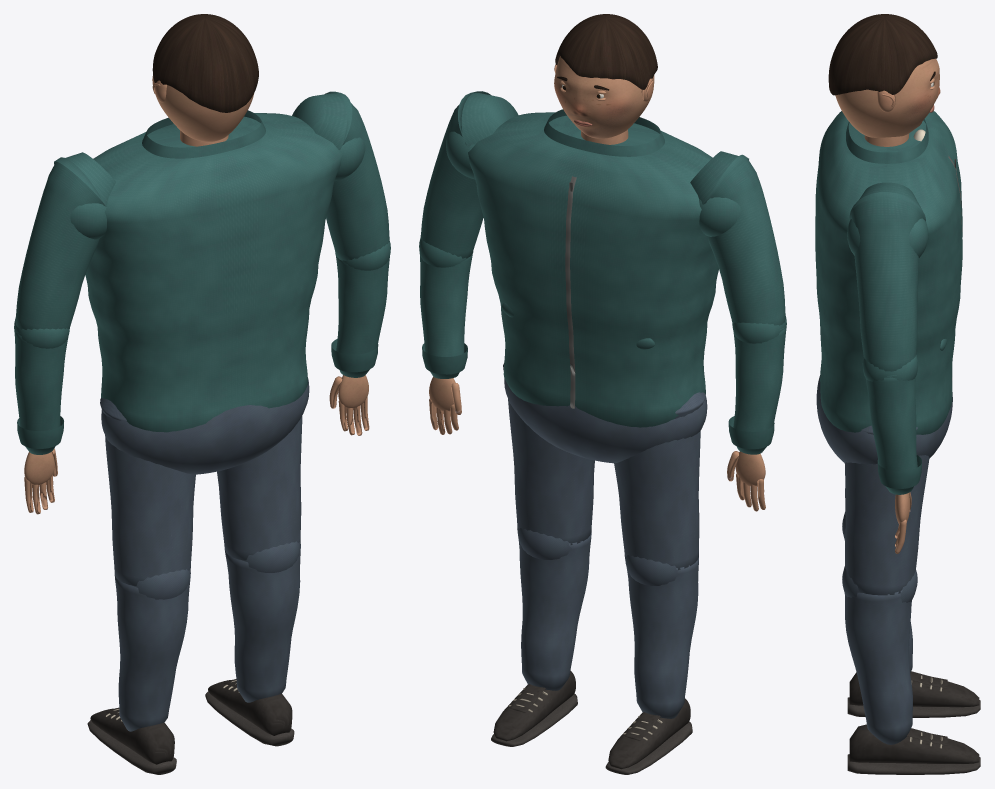
The model's file is nitches_player.glb.
3 renders of one model, left to right at view 1: azimuth 30°, elevation 25°; view 2: azimuth 150°, elevation 25°; view 3: azimuth 270°, elevation 25°, orthographic. The views are drawn at different scales.
Visible parts, largest first — view 1: Torso_Jacket - deep teal, UpperArmL_Jacket - deep teal, ThighL_Trousers - charcoal blue, ShinL_Trousers - charcoal blue, ShinR_Trousers - charcoal blue, Torso_Trousers - charcoal blue, UpperArmR_Jacket - deep teal, ThighR_Trousers - charcoal blue, Head_Hair - dark brown, ForearmL_Jacket - deep teal, ForearmR_Jacket - deep teal, Head_Skin - face (+6 smaller); view 2: Torso_Jacket - deep teal, UpperArmL_Jacket - deep teal, ThighL_Trousers - charcoal blue, ShinL_Trousers - charcoal blue, ShinR_Trousers - charcoal blue, UpperArmR_Jacket - deep teal, ThighR_Trousers - charcoal blue, Torso_Trousers - charcoal blue, ForearmL_Jacket - deep teal, ForearmR_Jacket - deep teal, Head_Hair - dark brown, Head_Skin - face (+7 smaller); view 3: Torso_Jacket - deep teal, UpperArmR_Jacket - deep teal, ShinR_Trousers - charcoal blue, ThighR_Trousers - charcoal blue, Head_Hair - dark brown, ForearmR_Jacket - deep teal, Head_Skin - face, FootR_Shoes - dark leather, Torso_Trousers - charcoal blue, FootL_Shoes - dark leather, FootR_Shoe sole - rubber, FootL_Shoe sole - rubber (+3 smaller).
Part boxes in pixels (<box>): Torso_Jacket - deep teal: <box>85,110,342,432</box>; UpperArmL_Jacket - deep teal: <box>15,152,115,329</box>; ThighL_Trousers - charcoal blue: <box>100,398,195,585</box>; ShinL_Trousers - charcoal blue: <box>114,569,190,731</box>; ShinR_Trousers - charcoal blue: <box>225,541,300,702</box>; Torso_Trousers - charcoal blue: <box>101,377,309,474</box>; UpperArmR_Jacket - deep teal: <box>292,91,389,260</box>; ThighR_Trousers - charcoal blue: <box>217,416,302,560</box>; Head_Hair - dark brown: <box>152,14,258,112</box>; ForearmL_Jacket - deep teal: <box>14,318,69,454</box>; ForearmR_Jacket - deep teal: <box>331,241,390,377</box>; Head_Skin - face: <box>152,76,254,141</box>; Torso_Jacket - deep teal: <box>468,109,718,427</box>; UpperArmL_Jacket - deep teal: <box>690,151,785,325</box>; ThighL_Trousers - charcoal blue: <box>614,392,705,570</box>; ShinL_Trousers - charcoal blue: <box>624,555,698,718</box>; ShinR_Trousers - charcoal blue: <box>517,528,591,690</box>; UpperArmR_Jacket - deep teal: <box>420,91,518,258</box>; ThighR_Trousers - charcoal blue: <box>503,363,594,544</box>; Torso_Trousers - charcoal blue: <box>504,378,707,463</box>; ForearmL_Jacket - deep teal: <box>728,316,786,454</box>; ForearmR_Jacket - deep teal: <box>419,238,473,378</box>; Head_Hair - dark brown: <box>555,14,657,90</box>; Head_Skin - face: <box>554,56,654,138</box>; Torso_Jacket - deep teal: <box>815,111,962,434</box>; UpperArmR_Jacket - deep teal: <box>847,182,928,371</box>; ShinR_Trousers - charcoal blue: <box>842,565,917,744</box>; ThighR_Trousers - charcoal blue: <box>844,425,929,595</box>; Head_Hair - dark brown: <box>828,14,937,95</box>; ForearmR_Jacket - deep teal: <box>862,355,921,494</box>; Head_Skin - face: <box>835,58,940,137</box>; FootR_Shoes - dark leather: <box>849,724,979,763</box>; Torso_Trousers - charcoal blue: <box>816,375,952,464</box>; FootL_Shoes - dark leather: <box>849,671,979,707</box>; FootR_Shoe sole - rubber: <box>847,754,980,774</box>; FootL_Shoe sole - rubber: <box>847,697,980,717</box>.
Bounding box in the file's own units: 0.974 × 1.84 × 0.381.
14 materials, 11 textured.
